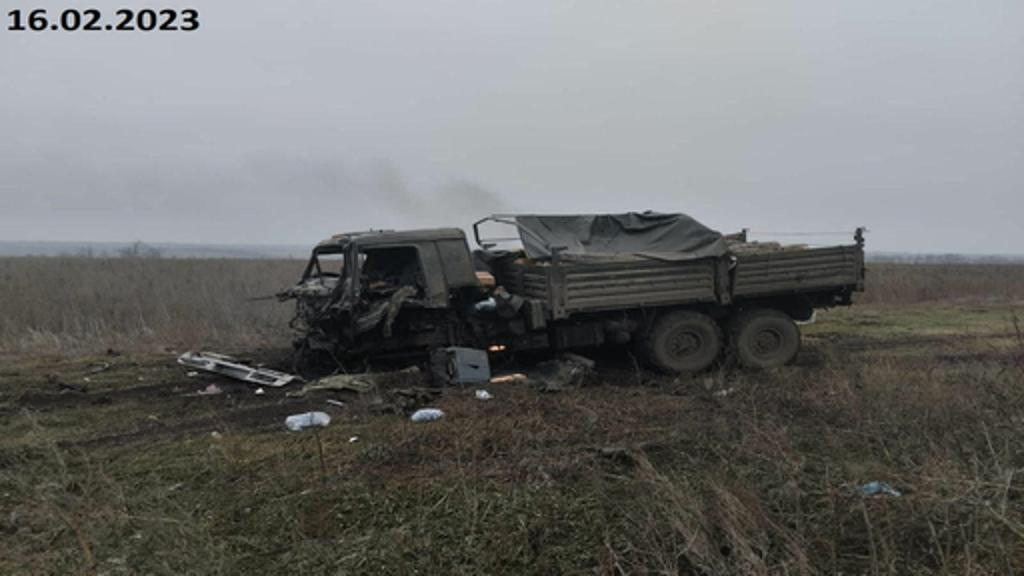TRUCK: (268, 196, 872, 394)
